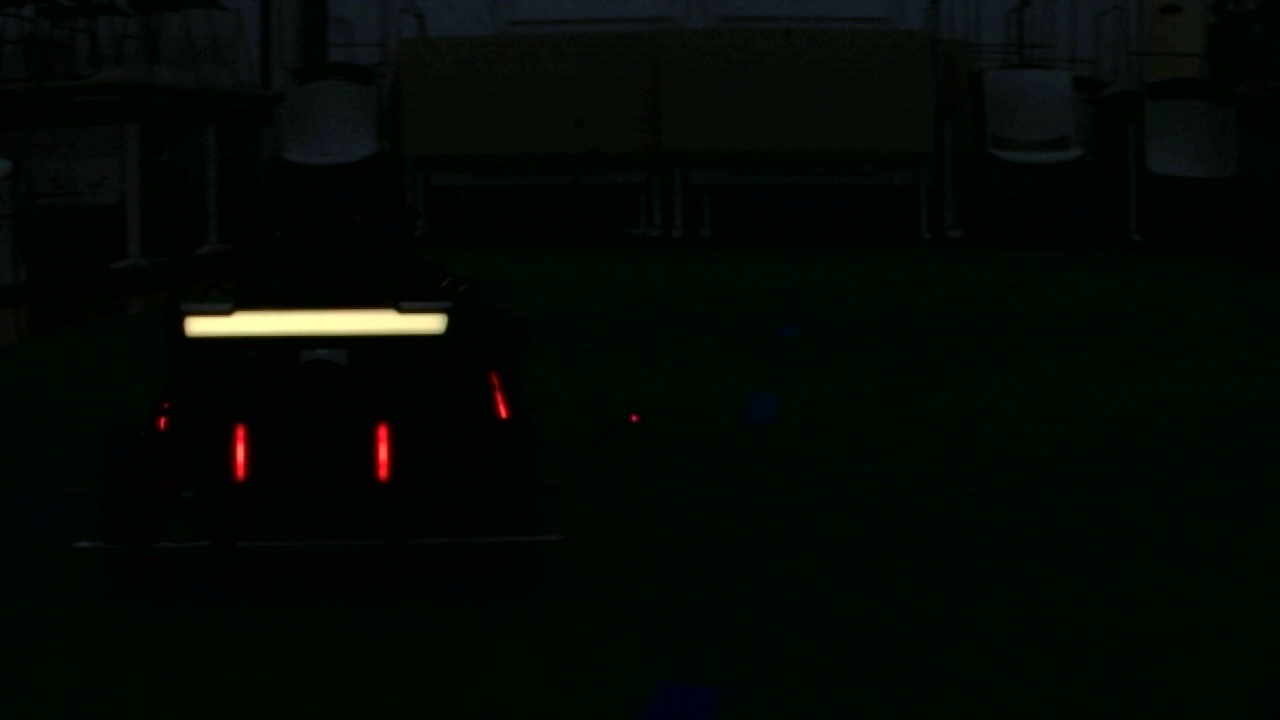lamp: (227, 421, 245, 482), (375, 418, 391, 481)
pair1: (229, 420, 395, 483)
